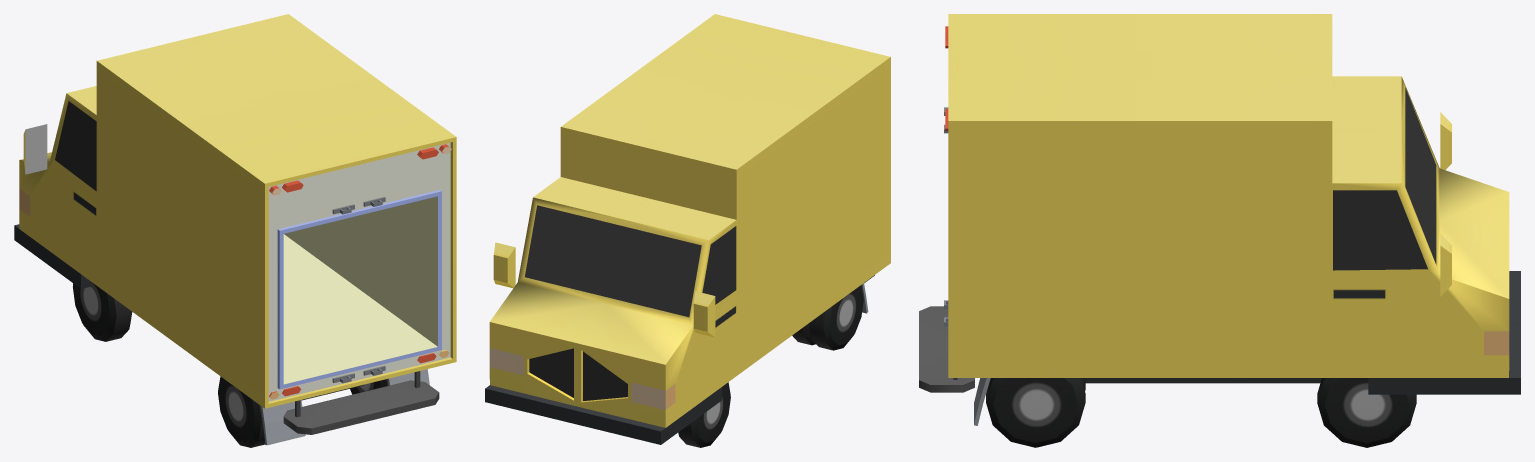
File: BI_Van_model.fbx
3 renders of one model, left to right at view 1: azimuth 30°, elevation 25°; view 2: azimuth 150°, elevation 25°; view 3: azimuth 270°, elevation 25°, orthographic. The views are drawn at different scales.
Visible parts, largest first — view 1: BI_Van_model; view 2: BI_Van_model; view 3: BI_Van_model.
Part boxes in pixels (box(x1,y1,x2,y2)): BI_Van_model: box(14, 14, 456, 447); BI_Van_model: box(485, 14, 890, 447); BI_Van_model: box(919, 14, 1520, 447).
Size of the model in its own units: 339 by 395 by 644.
